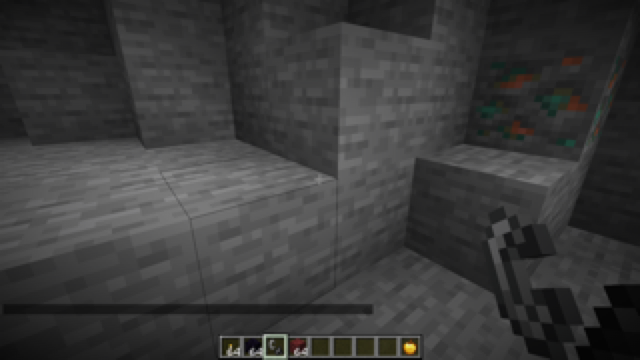copper: (461, 55, 624, 163)
